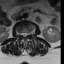CCS_normal: (23, 30, 25, 38)
LFS_normal: (27, 30, 30, 36)
LLS_normal: (25, 31, 27, 38)
RFS_normal: (19, 31, 21, 37)
RLS_normal: (21, 31, 23, 37)
